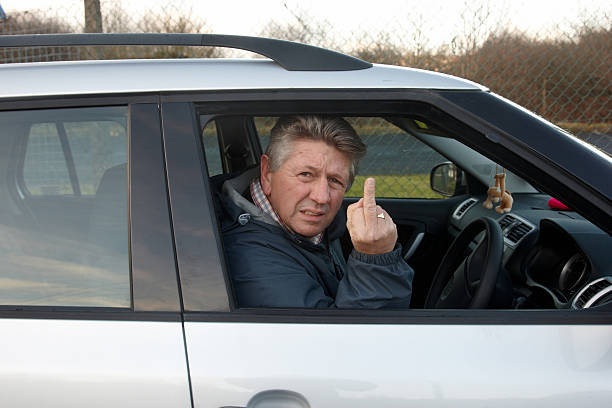insulting_gesture: (344, 177, 400, 255)
